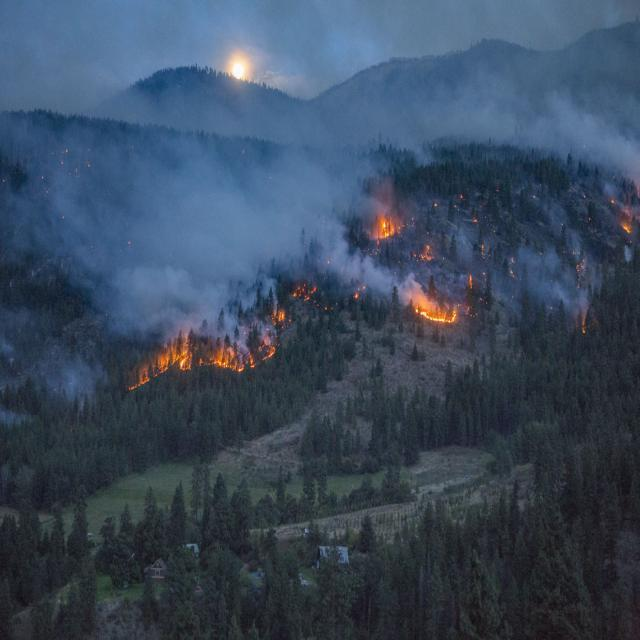Fire: (138, 216, 468, 382)
Smoke: (1, 2, 640, 296)
